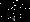person: (8, 9, 15, 21)
